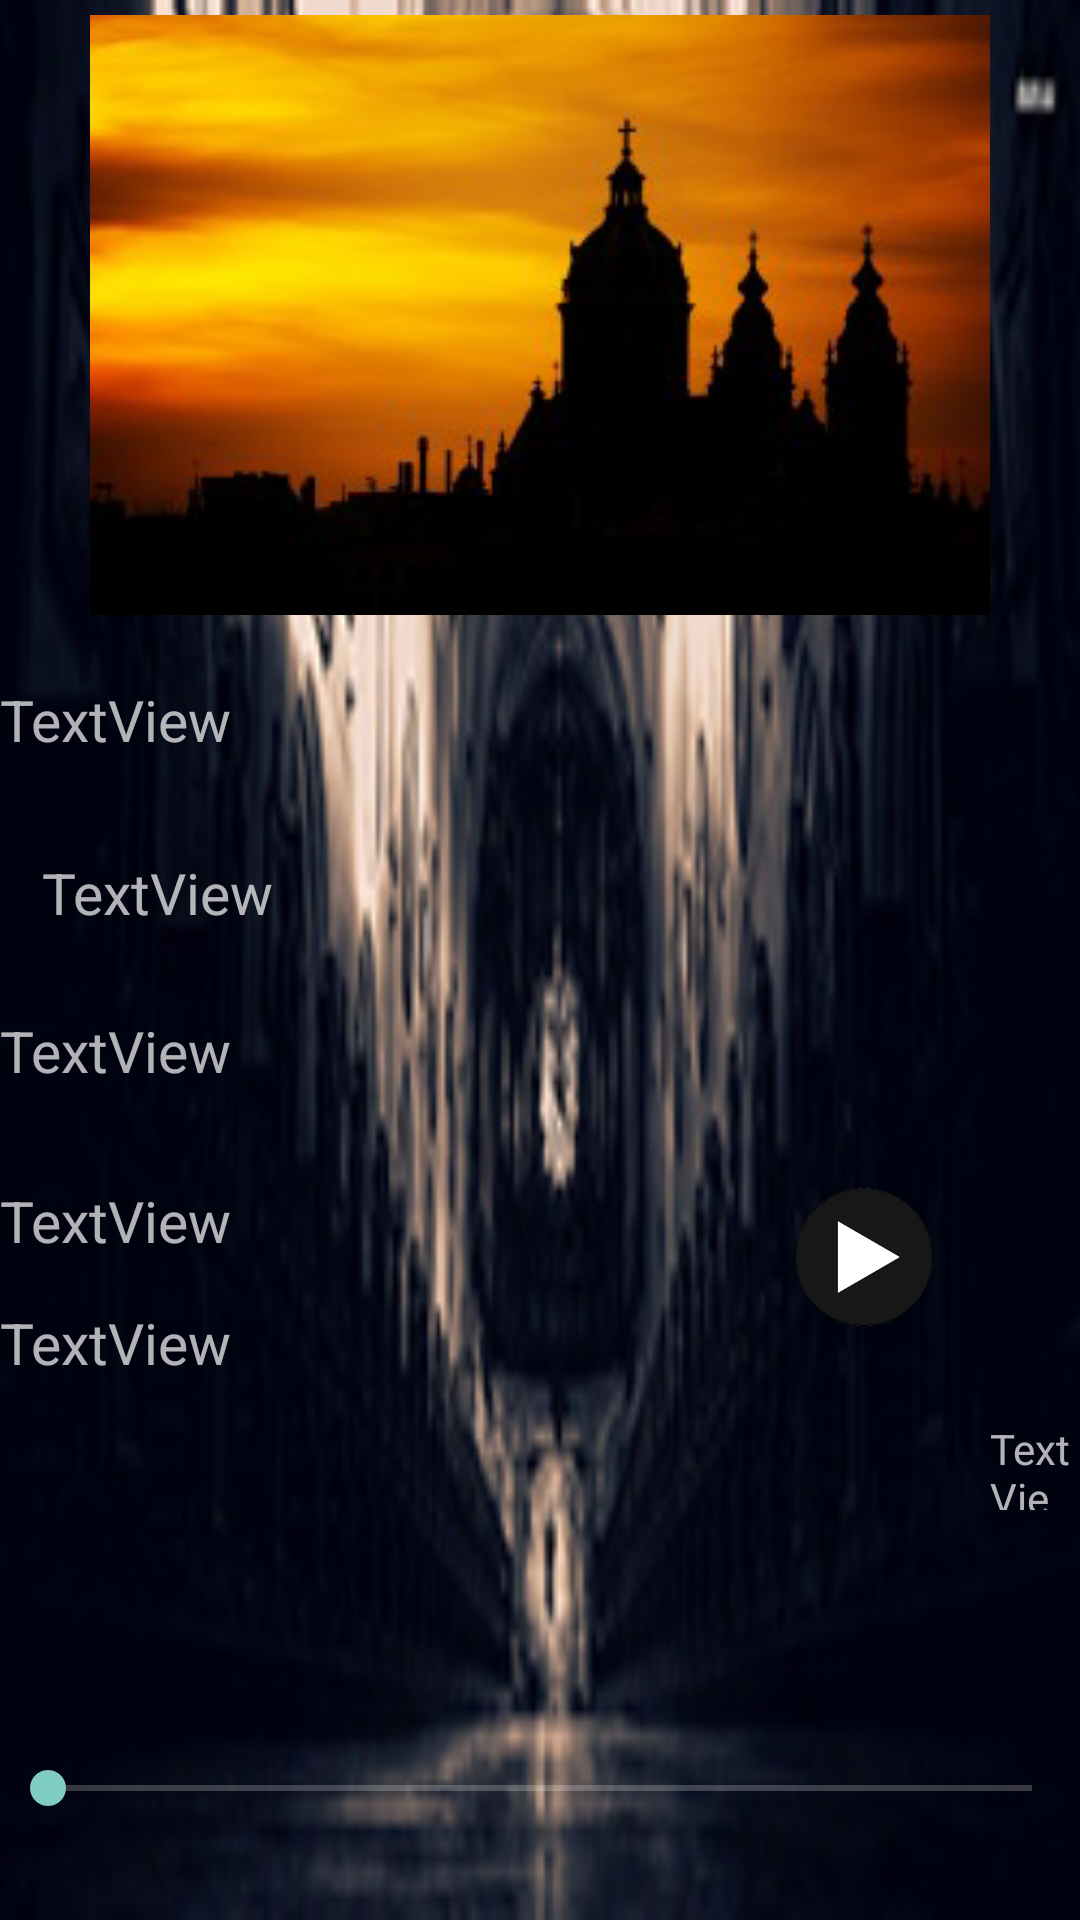

Icons on this 1080 × 1920 Android screen, each with the point to tap as (x=x, y=y):
playbutton: (x=863, y=1257)
